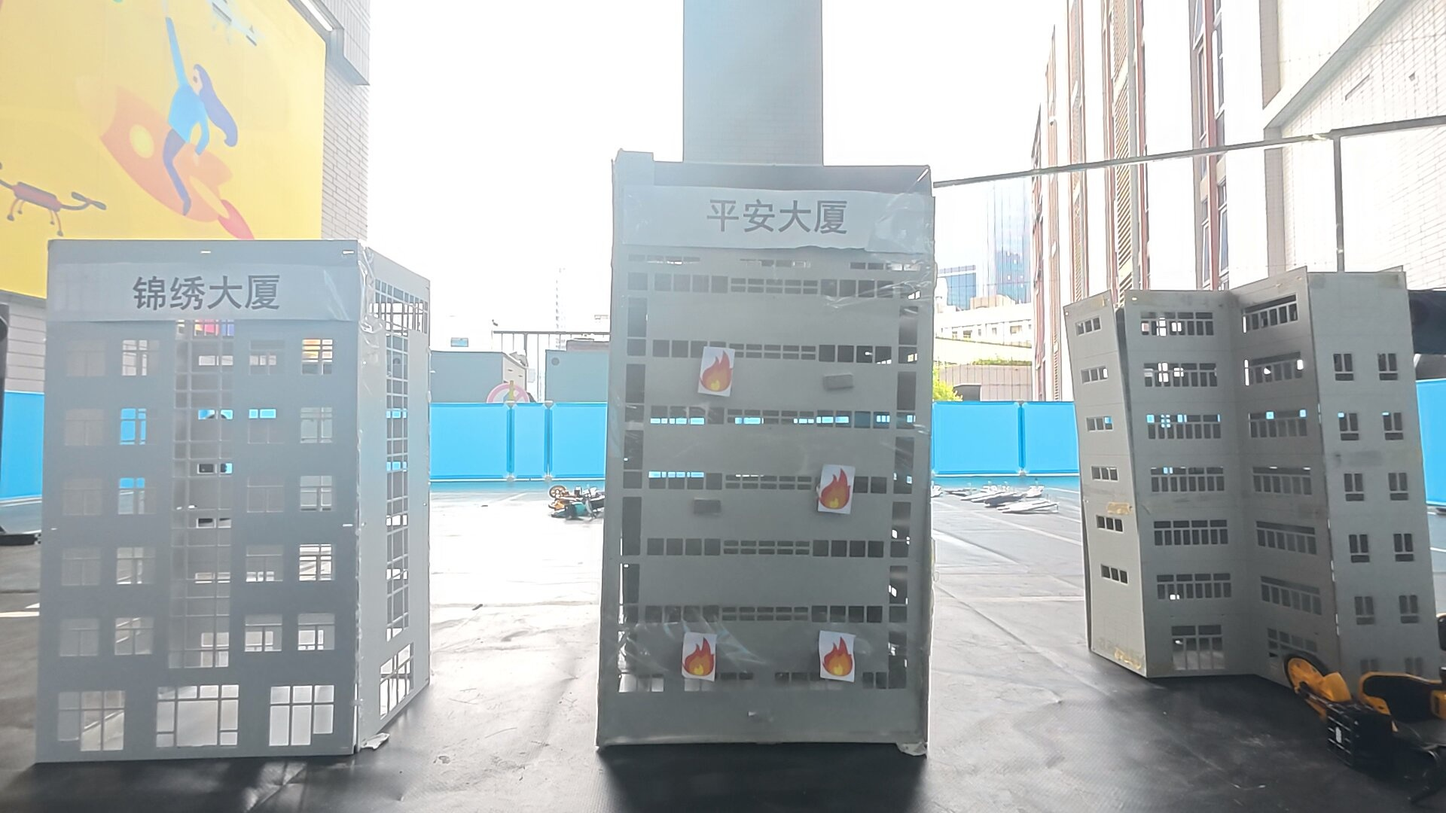fire: (679, 631, 721, 680), (698, 345, 738, 396), (817, 631, 858, 680), (817, 464, 856, 515)
